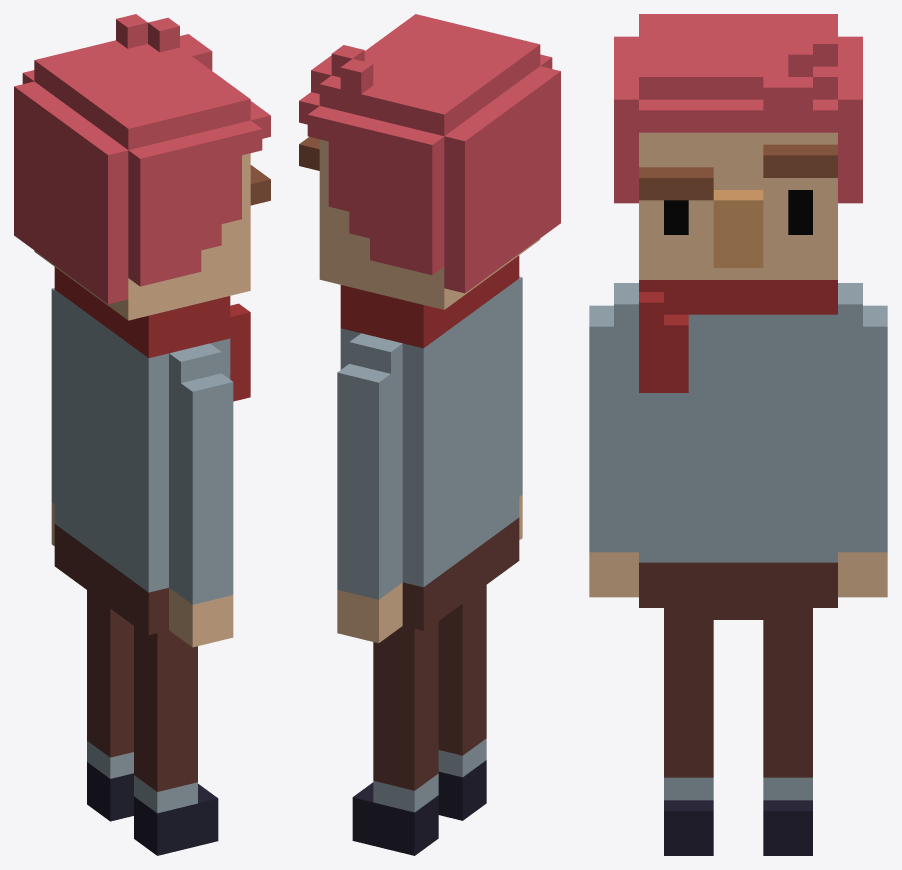
Rendered from scarf_dude.obj.
3 views of the same model, side by side, from view 1: azimuth 30°, elevation 25°; view 2: azimuth 150°, elevation 25°; view 3: azimuth 270°, elevation 25° (orthographic). The views are drawn at different scales.
Bounding box in the file's own units: 0.8 × 3.6 × 1.2.
1 material, 1 textured.
